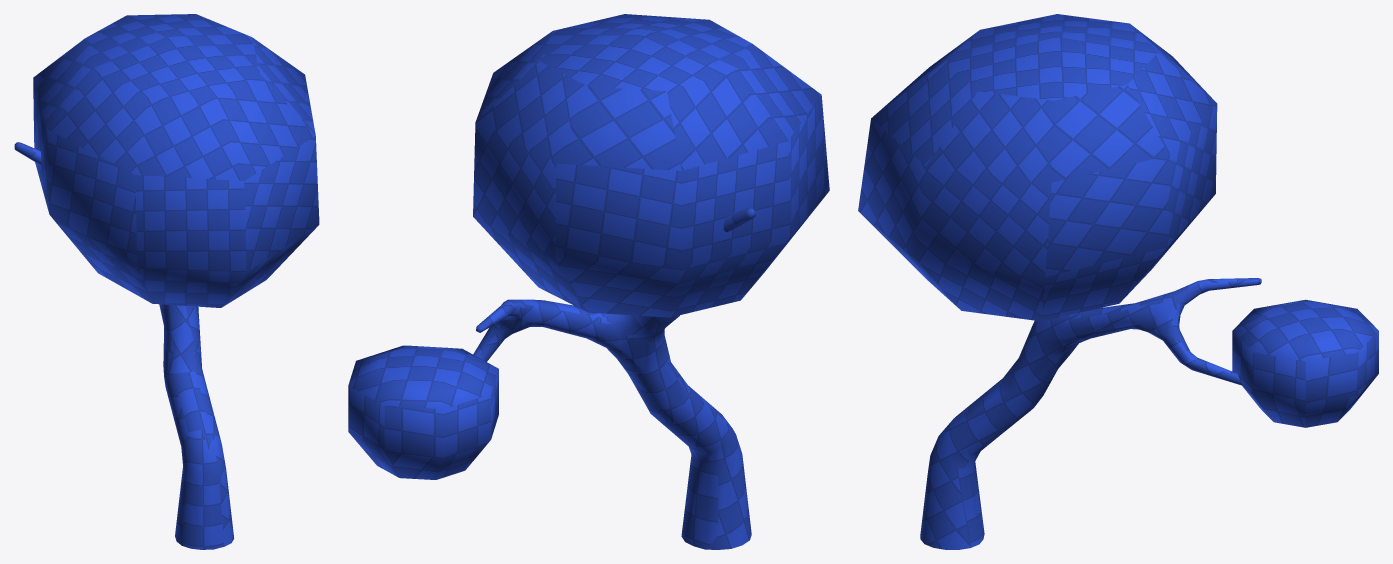
File: BigTreePH.fbx
The picture shows the model from 3 angles, left to right: view 1: azimuth 30°, elevation 25°; view 2: azimuth 150°, elevation 25°; view 3: azimuth 270°, elevation 25°; orthographic projection. The views are drawn at different scales.
Visible parts, largest first — view 1: Plane; view 2: Plane; view 3: Plane.
Boxes of the visible parts, left/top/right/bottom form: Plane: left=14, top=14, right=319, bottom=549; Plane: left=348, top=14, right=829, bottom=549; Plane: left=858, top=14, right=1378, bottom=549.
Bounding box in the file's own units: 688 × 1085 × 1162.
